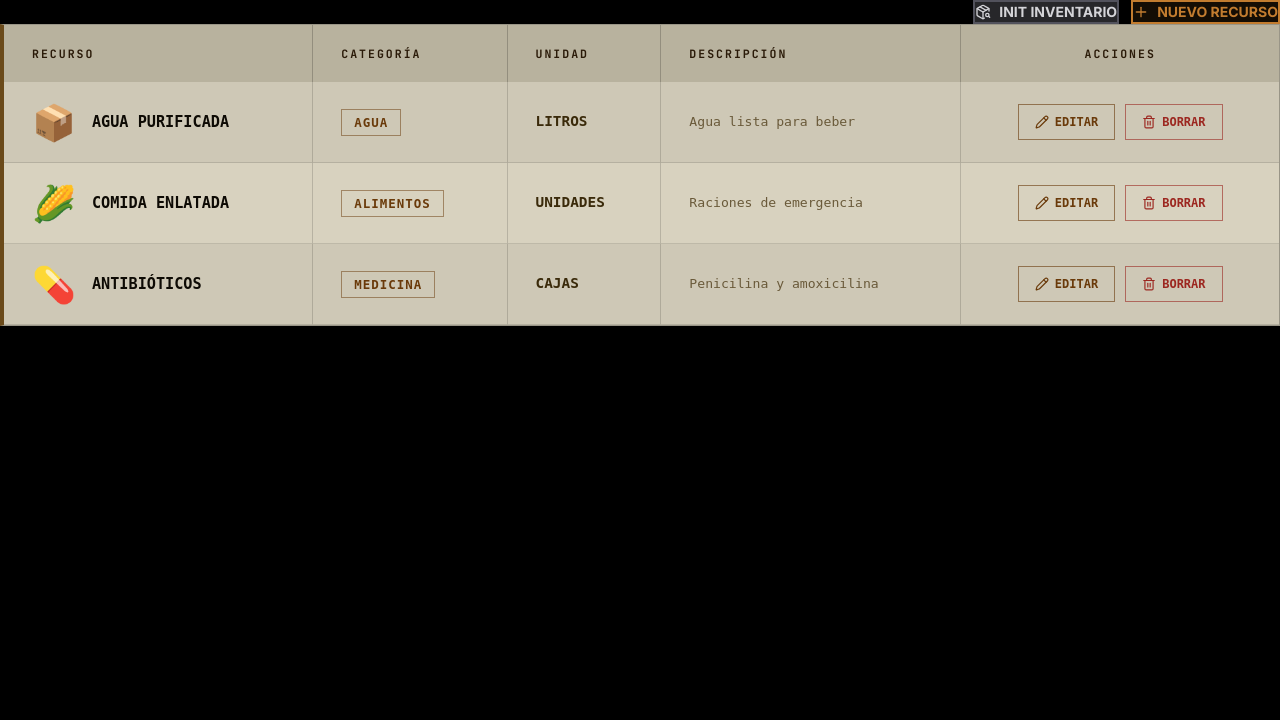
it: ManagerCatalog › cancels create form when CANCELAR is clicked
What coordinates should you click on to do the following:
click the button "NUEVO RECURSO"
I would click on:
 (1206, 12)
Its box is [1131,0,1279,24].
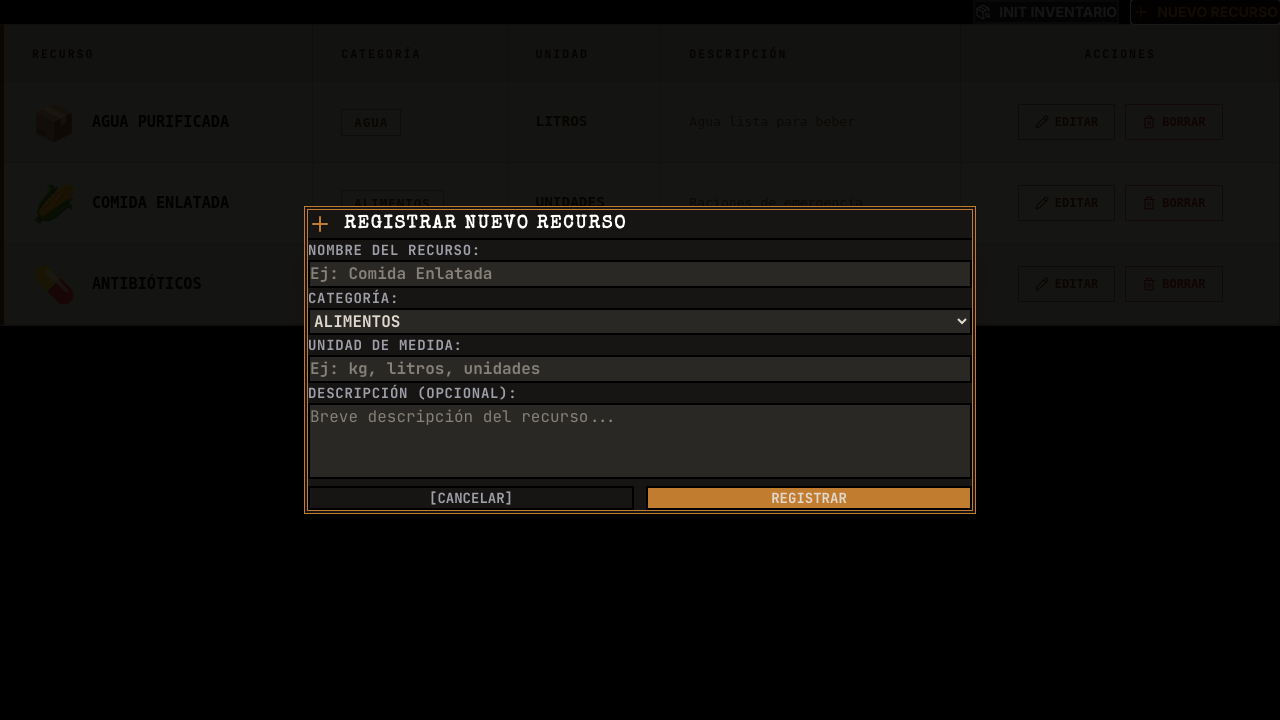
What coordinates should you click on to do the following:
click the button "[CANCELAR]"
I would click on:
 (471, 498)
Its box is [308,486,634,510].
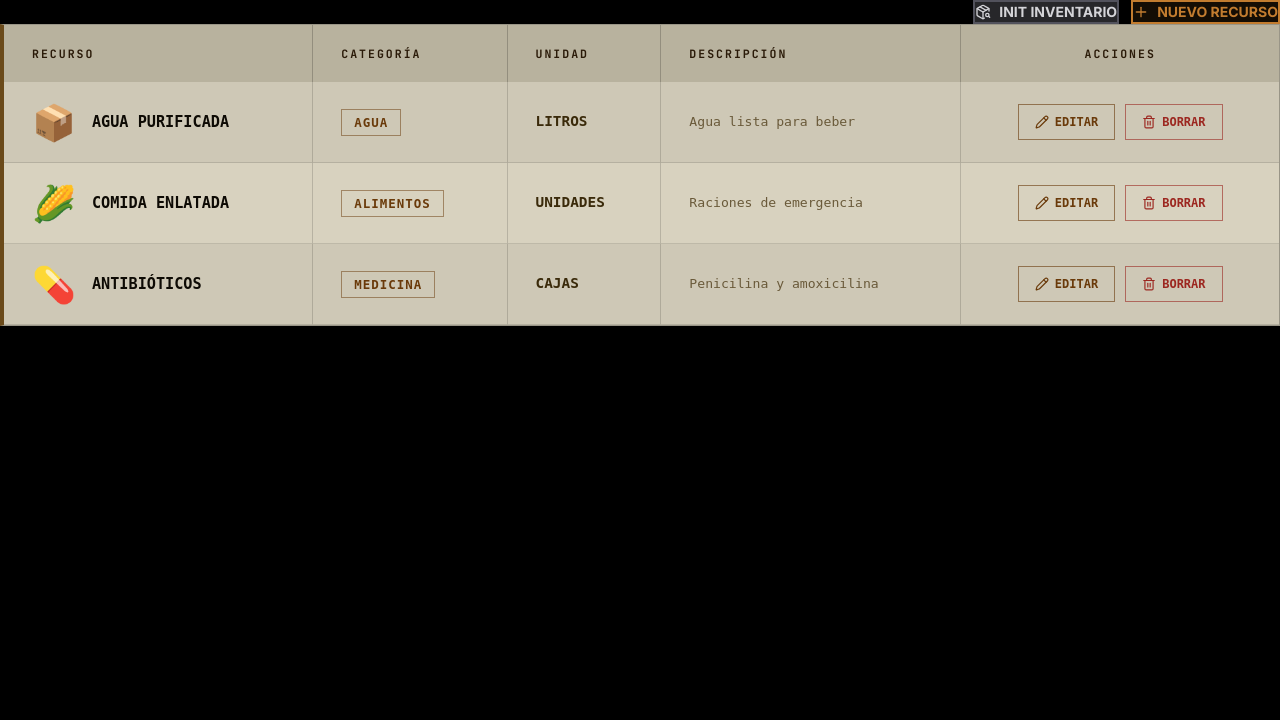
Check: the heading "REGISTRAR NUEVO RECURSO" is gone
